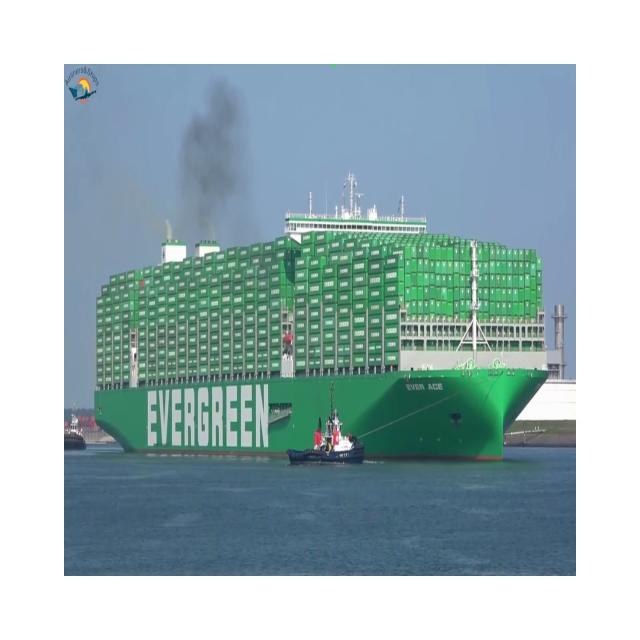OCR: (136, 383, 282, 458), (398, 366, 445, 405)
